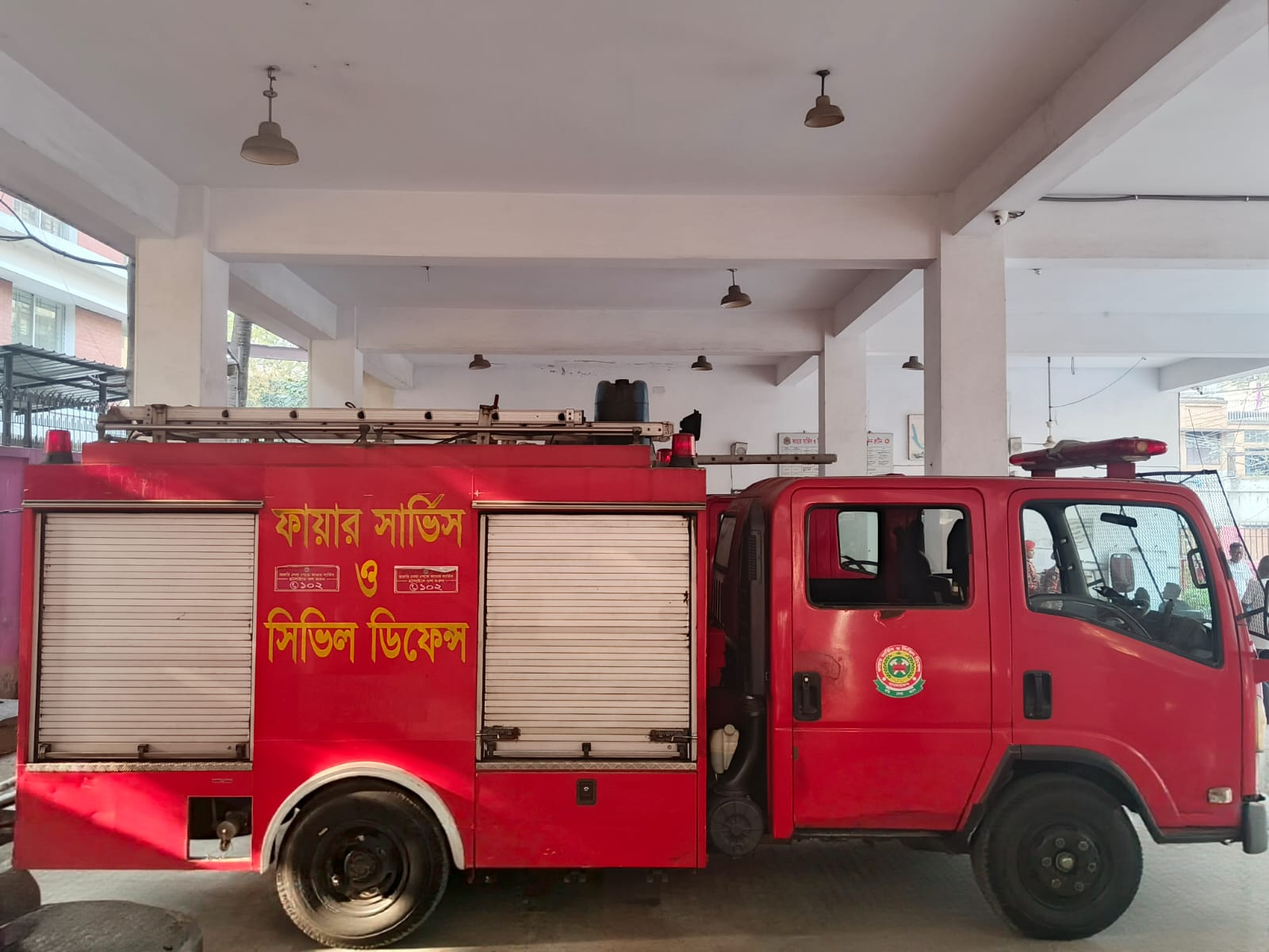Fire truck: (6, 326, 1269, 952)
